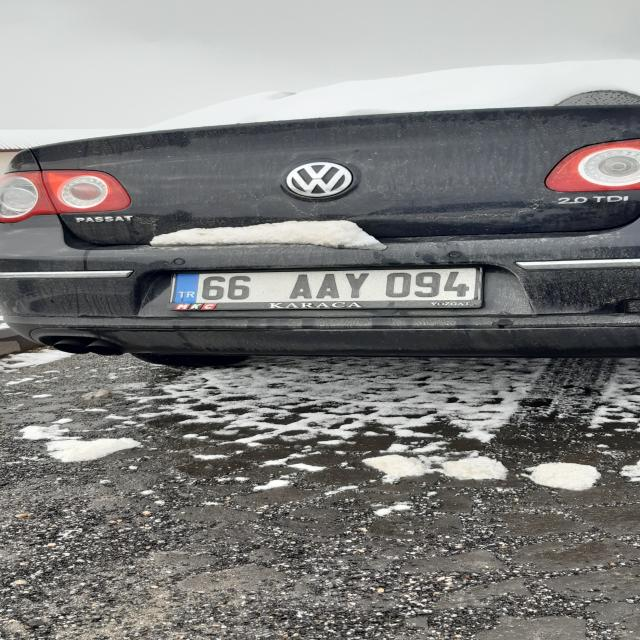license_plate: (170, 267, 480, 303)
